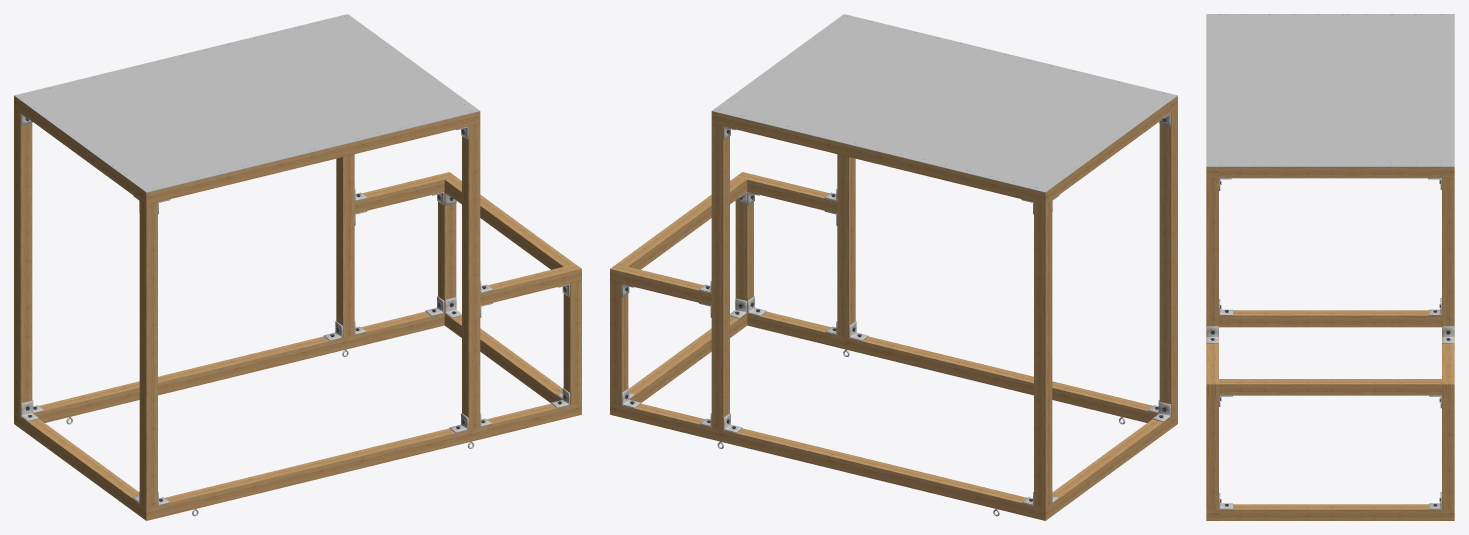
3 views of the same model, side by side, from view 1: azimuth 30°, elevation 25°; view 2: azimuth 150°, elevation 25°; view 3: azimuth 270°, elevation 25° (orthographic). The views are drawn at different scales.
Visible parts, largest first — view 1: Плоскость.088, Куб.042, Куб.031, Куб.043, Куб.046, Куб.033, Куб.045, Куб.036, Куб.038, Куб.032, Куб.037, Куб.044 (+4 smaller); view 2: Плоскость.088, Куб.031, Куб.042, Куб.033, Куб.036, Куб.043, Куб.035, Куб.046, Куб.038, Куб.032, Куб.037, Куб.034 (+4 smaller); view 3: Плоскость.088, Куб.038, Куб.032, Куб.037, Куб.040, Куб.036, Куб.046, Куб.034, Куб.044, Куб.030, Куб.041.
Boxes of the visible parts, box(x1,y1,x2,y2) form: Плоскость.088: box(14, 14, 479, 192); Куб.042: box(139, 402, 581, 520); Куб.031: box(14, 311, 444, 428); Куб.043: box(139, 200, 157, 508); Куб.046: box(462, 123, 480, 429); Куб.033: box(14, 108, 32, 416); Куб.045: box(139, 111, 480, 204); Куб.036: box(336, 154, 354, 337); Куб.038: box(20, 417, 139, 515); Куб.032: box(444, 177, 574, 269); Куб.037: box(444, 313, 562, 402); Куб.044: box(563, 281, 581, 405); Плоскость.088: box(712, 14, 1177, 192); Куб.031: box(610, 402, 1052, 520); Куб.042: box(747, 311, 1177, 428); Куб.033: box(1034, 200, 1052, 508); Куб.036: box(711, 123, 729, 429); Куб.043: box(1159, 108, 1177, 416); Куб.035: box(711, 111, 1052, 204); Куб.046: box(837, 154, 855, 337); Куб.038: box(1052, 417, 1171, 515); Куб.032: box(617, 177, 747, 269); Куб.037: box(629, 313, 747, 402); Куб.034: box(610, 281, 628, 405); Плоскость.088: box(1206, 14, 1454, 166); Куб.038: box(1219, 310, 1441, 327); Куб.032: box(1219, 379, 1441, 395); Куб.037: box(1219, 504, 1441, 520); Куб.040: box(1219, 167, 1441, 178); Куб.036: box(1442, 178, 1454, 337); Куб.046: box(1206, 178, 1218, 337); Куб.034: box(1442, 395, 1454, 509); Куб.044: box(1206, 395, 1218, 509); Куб.030: box(1442, 338, 1454, 395); Куб.041: box(1206, 338, 1218, 395).
Size of the model in its own units: 3 by 2.24 by 1.58.
